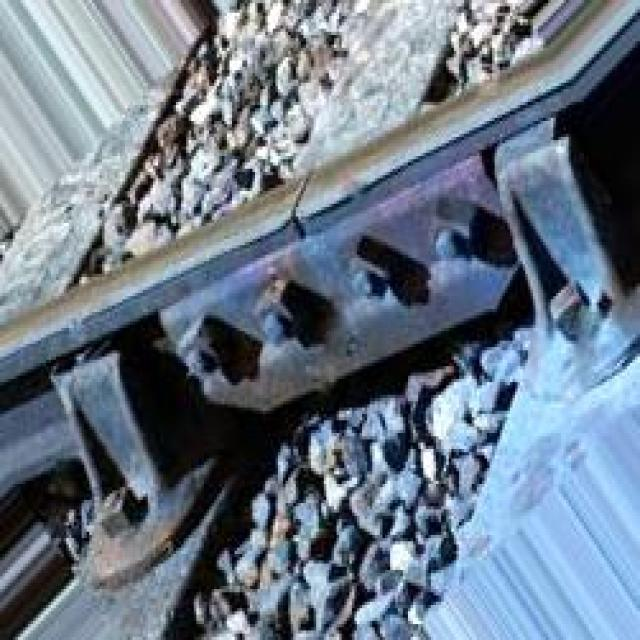Good Joint: (57, 51, 629, 574)
